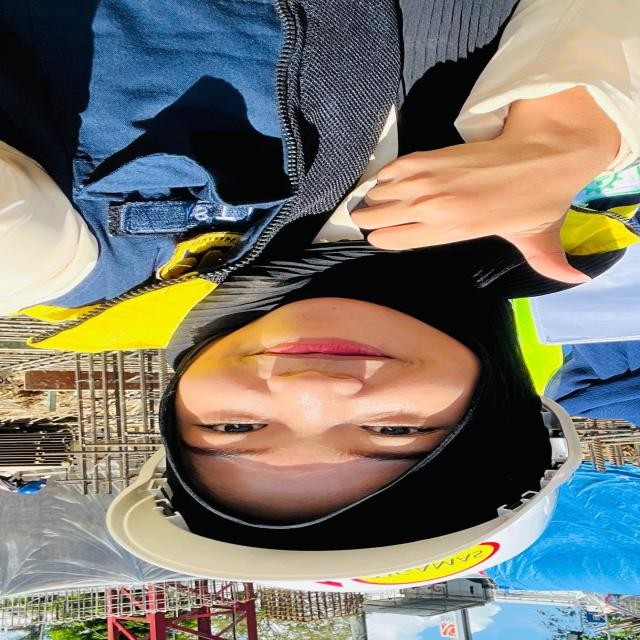safetyhelmet: (86, 291, 585, 596)
